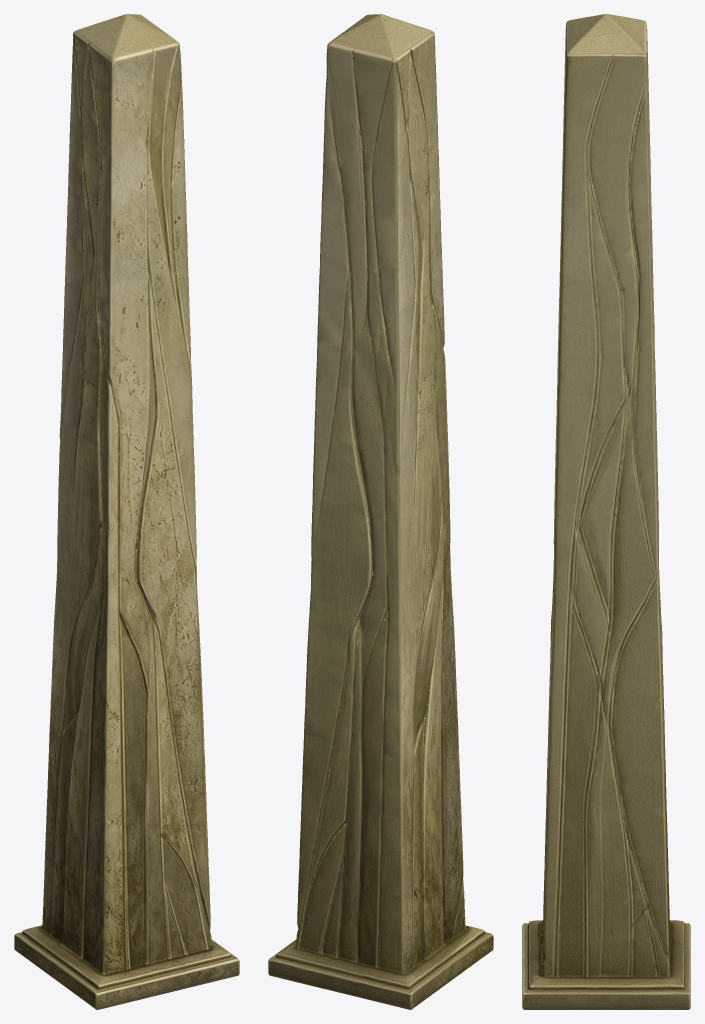
The model's file is obelisk.glb.
3 renders of one model, left to right at view 1: azimuth 30°, elevation 25°; view 2: azimuth 150°, elevation 25°; view 3: azimuth 270°, elevation 25°, orthographic.
Visible parts, largest first — view 1: mesh_node; view 2: mesh_node; view 3: mesh_node.
Part boxes in pixels (<box>): mesh_node: <box>14,14,239,1009</box>; mesh_node: <box>268,14,493,1009</box>; mesh_node: <box>522,14,690,1009</box>.
Size of the model in its own units: 0.3021 by 1.9 by 0.3021.
Materials: 1 (1 with a texture image).
